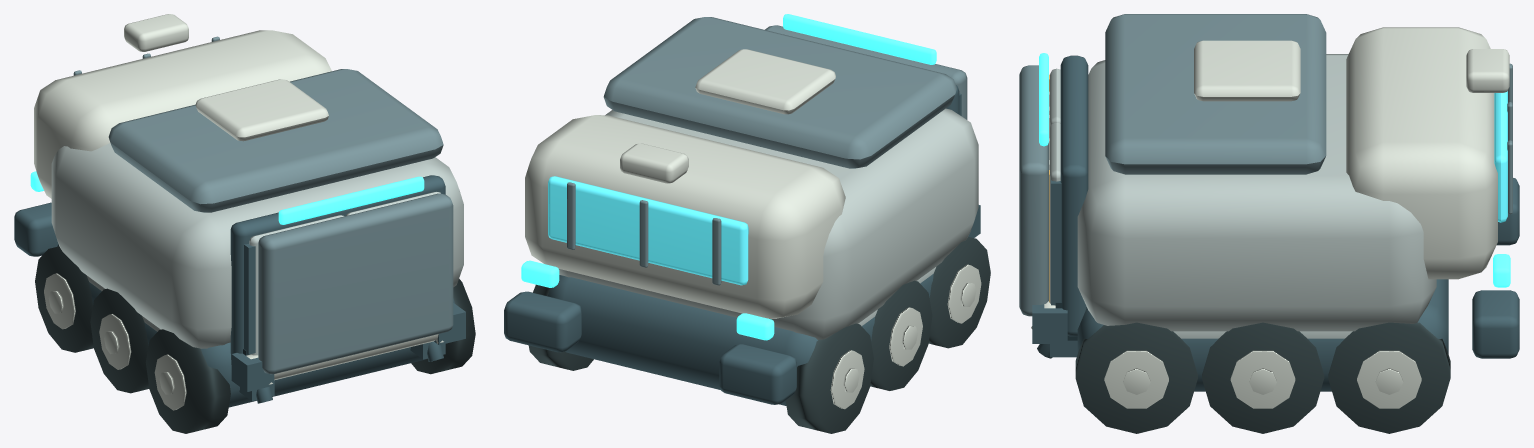
File: apc.glb
3 renders of one model, left to right at view 1: azimuth 30°, elevation 25°; view 2: azimuth 150°, elevation 25°; view 3: azimuth 270°, elevation 25°, orthographic. The views are drawn at different scales.
Visible parts, largest first — view 1: APC loading ramp, Broad personnel hull, Windshield divider, Sloped forward cab, Carrier armored belly, APC wheel L3, APC wheel L1, APC wheel L2, Side team stripe, APC door L, APC wheel R3; view 2: Sloped forward cab, Windshield divider, Broad personnel hull, Carrier armored belly, Wide armored windshield, APC wheel L1, APC wheel L3, APC wheel L2, Side team stripe, APC loading ramp, APC wheel R1; view 3: Broad personnel hull, Sloped forward cab, Windshield divider, Carrier armored belly, APC wheel R1, APC wheel R3, APC wheel R2, APC loading ramp, APC door R, Wide armored windshield, Side team stripe, APC door L.
Part boxes in pixels (x1,y1,x2,y2): APC loading ramp: (231, 193, 465, 391); Broad personnel hull: (51, 143, 463, 348); Windshield divider: (73, 36, 443, 212); Sloped forward cab: (34, 14, 443, 384); Carrier armored belly: (14, 175, 454, 407); APC wheel L3: (145, 329, 230, 433); APC wheel L1: (35, 246, 93, 352); APC wheel L2: (90, 288, 149, 393); Side team stripe: (30, 171, 424, 224); APC door L: (244, 215, 344, 355); APC wheel R3: (411, 278, 475, 374); Sloped forward cab: (525, 49, 845, 318); Windshield divider: (567, 17, 956, 285); Broad personnel hull: (559, 108, 978, 339); Carrier armored belly: (504, 85, 959, 405); Wide armored windshield: (548, 176, 748, 285); APC wheel L1: (785, 323, 873, 433); APC wheel L3: (928, 236, 990, 348); APC wheel L2: (870, 280, 932, 390); Side team stripe: (521, 14, 936, 340); APC loading ramp: (765, 25, 980, 237); APC wheel R1: (528, 284, 593, 370); Broad personnel hull: (1077, 54, 1436, 338); Sloped forward cab: (1031, 27, 1509, 328); Windshield divider: (1105, 14, 1512, 214); Carrier armored belly: (1037, 55, 1519, 391); APC wheel R1: (1328, 322, 1450, 433); APC wheel R3: (1075, 322, 1197, 433); APC wheel R2: (1202, 322, 1324, 433); APC loading ramp: (1019, 65, 1067, 343); APC door R: (1049, 122, 1061, 305); Wide armored windshield: (1494, 91, 1507, 222); Side team stripe: (1039, 53, 1510, 287); APC door L: (1049, 68, 1060, 127).
Bounding box in the file's own units: 0.968 × 0.83 × 1.27.
